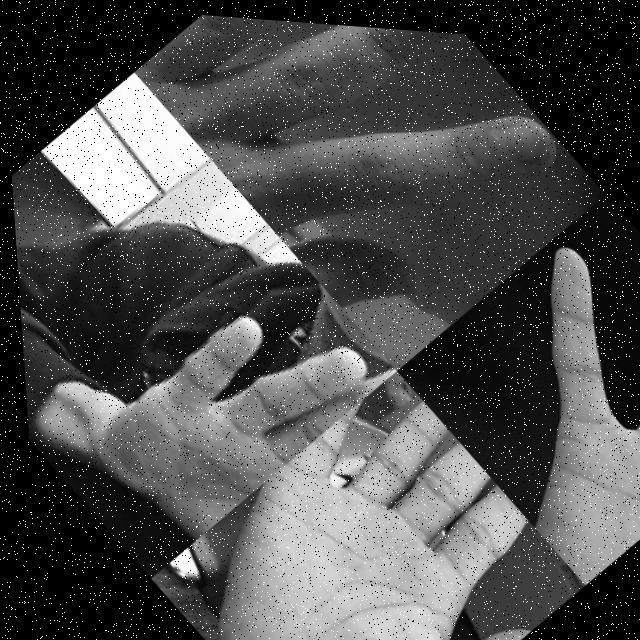hand: (130, 8, 579, 337), (130, 349, 583, 640), (53, 225, 402, 562), (381, 171, 640, 581)
